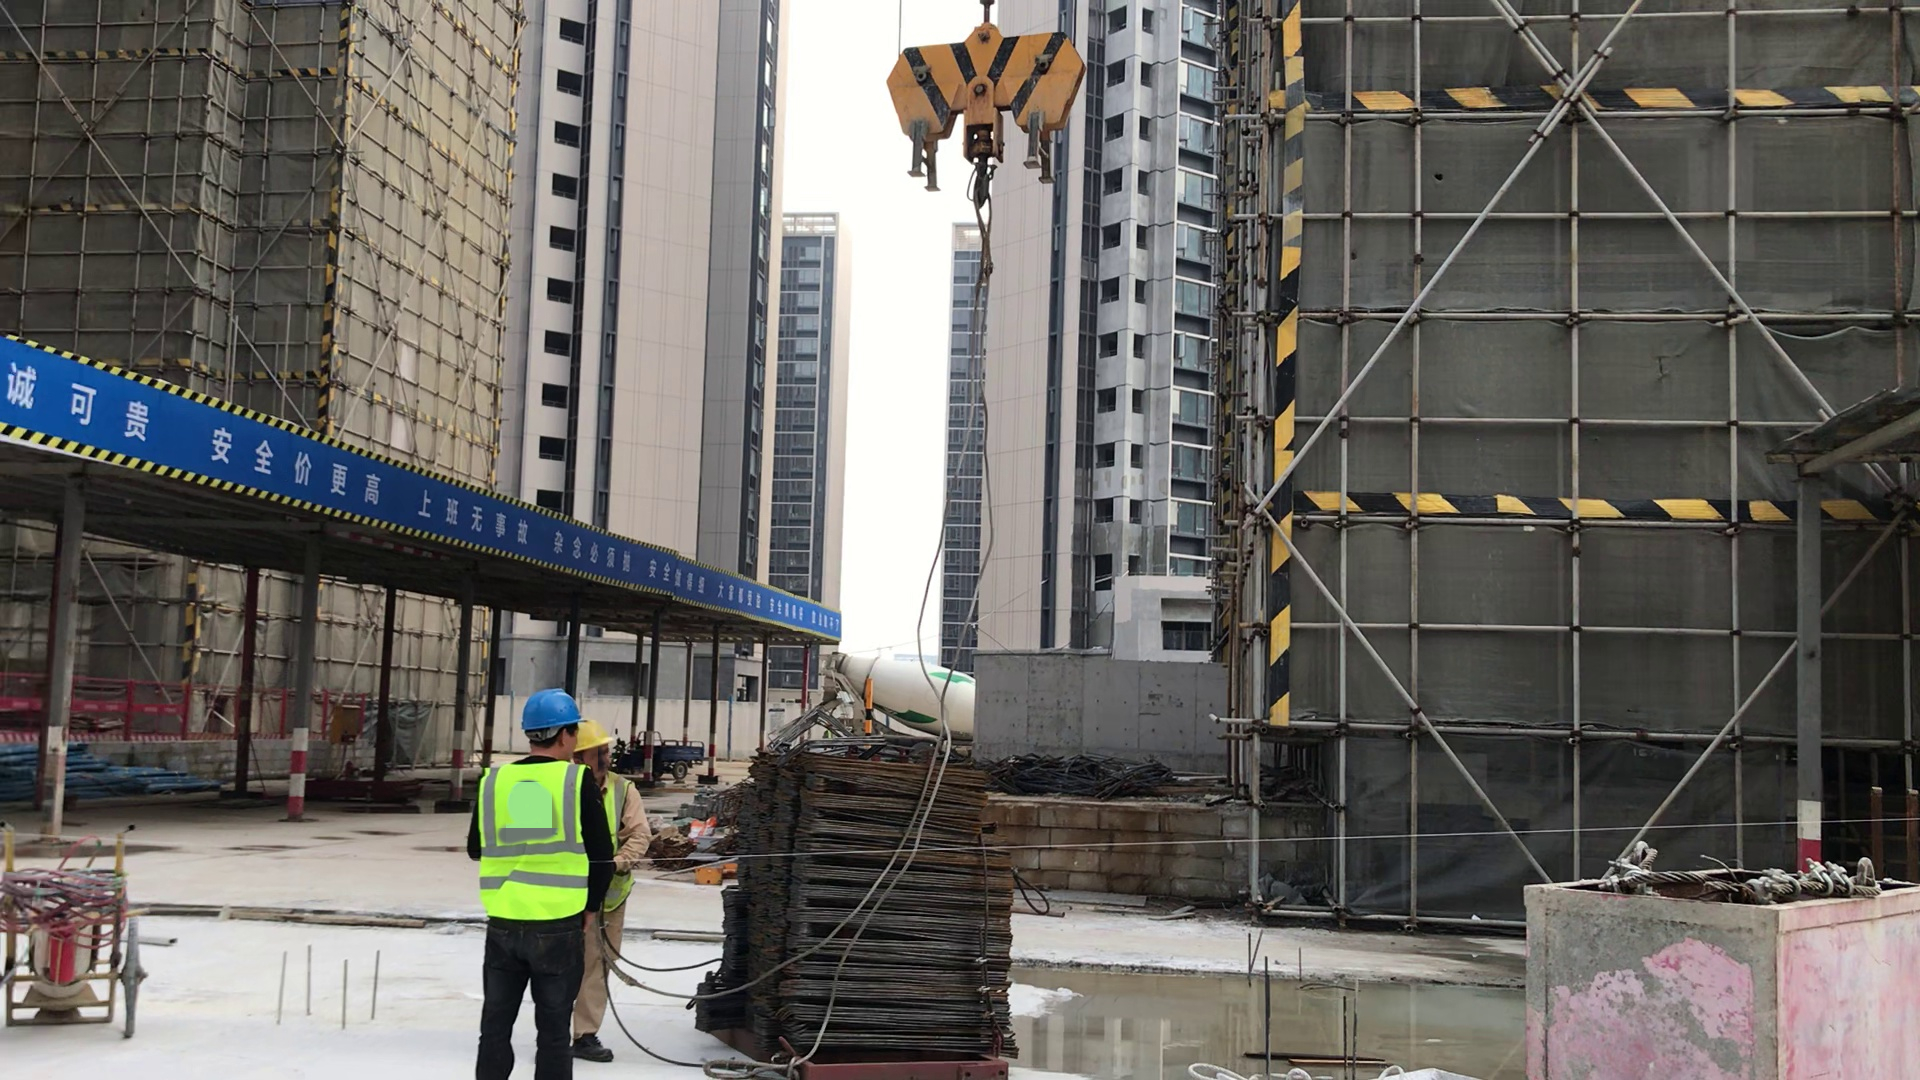helmet: (521, 687, 582, 727), (570, 718, 611, 746)
hook: (860, 22, 1111, 206)
person: (462, 685, 603, 1080), (554, 717, 666, 1056)
slogan: (2, 328, 843, 648)
vest: (480, 762, 593, 909)
